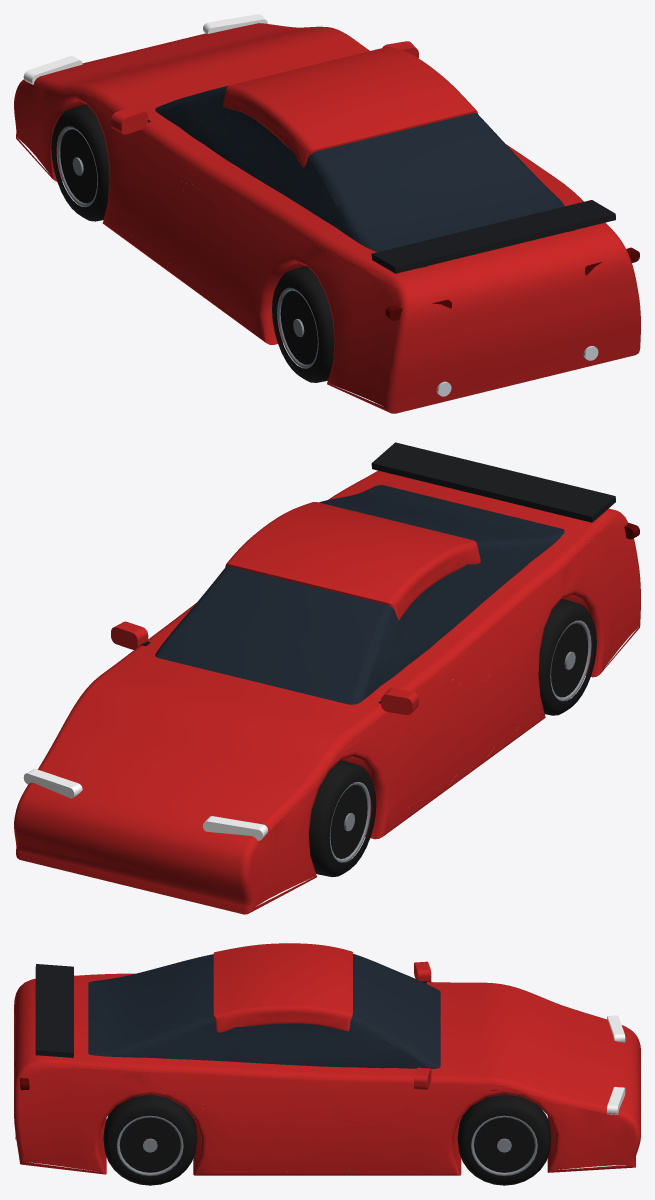
The model's file is sport.glb.
The picture shows the model from 3 angles, top to bottom: view 1: azimuth 30°, elevation 25°; view 2: azimuth 150°, elevation 25°; view 3: azimuth 270°, elevation 25°; orthographic projection. The views are drawn at different scales.
Parts seen in each view (by area): view 1: Body, Glass, Carbon, Tire_RL, Tire_FL, Headlights, Rim_FL, Rim_RL; view 2: Body, Glass, Carbon, Tire_FL, Tire_RL, Headlights, Rim_RL, Rim_FL; view 3: Body, Glass, Tire_FR, Tire_RR, Carbon, Rim_FR, Rim_RR, Headlights.
Part boxes in pixels (x1,y1,x2,y2): Body: [14, 23, 640, 413]; Glass: [155, 85, 564, 251]; Carbon: [371, 200, 615, 273]; Tire_RL: [272, 266, 334, 382]; Tire_FL: [51, 104, 109, 221]; Headlights: [23, 14, 267, 84]; Rim_FL: [57, 126, 97, 207]; Rim_RL: [277, 287, 318, 368]; Body: [14, 470, 640, 914]; Glass: [155, 485, 587, 704]; Carbon: [371, 442, 615, 522]; Tire_FL: [308, 760, 376, 877]; Tire_RL: [538, 599, 596, 715]; Headlights: [23, 769, 267, 840]; Rim_RL: [550, 620, 591, 701]; Rim_FL: [329, 782, 370, 862]; Body: [14, 943, 640, 1175]; Glass: [88, 953, 440, 1068]; Tire_FR: [457, 1094, 551, 1185]; Tire_RR: [103, 1094, 196, 1185]; Carbon: [35, 964, 73, 1057]; Rim_FR: [471, 1115, 537, 1176]; Rim_RR: [117, 1115, 183, 1176]; Headlights: [607, 1015, 625, 1114].
Size of the model in its own units: 2.05 by 1.3 by 4.6.
